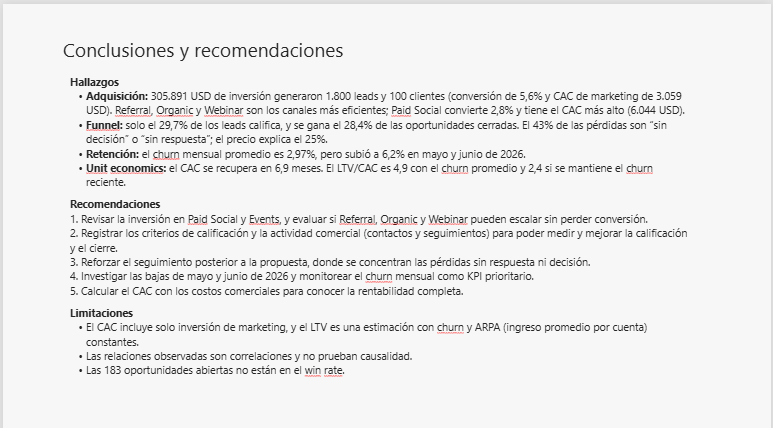

This screenshot's page, from the dashboard's own definition file:
{"tool":"powerbi","page":{"name":"Conclusiones y recomendaciones","canvas":[1920,1080],"ordinal":2},"visuals":[{"type":"textbox","box":[167.5,175,1552.5,797.5],"z":0},{"type":"textbox","box":[150,80,1586.7,150],"z":1}]}

Visuals, with their boxes in screenshot pixels (x1, y1, x2, y2), scaled from the page's 1920x1080 canvas onto the 773x428 screenshot:
textbox: [x1=67, y1=69, x2=692, y2=385]
textbox: [x1=60, y1=32, x2=699, y2=91]
